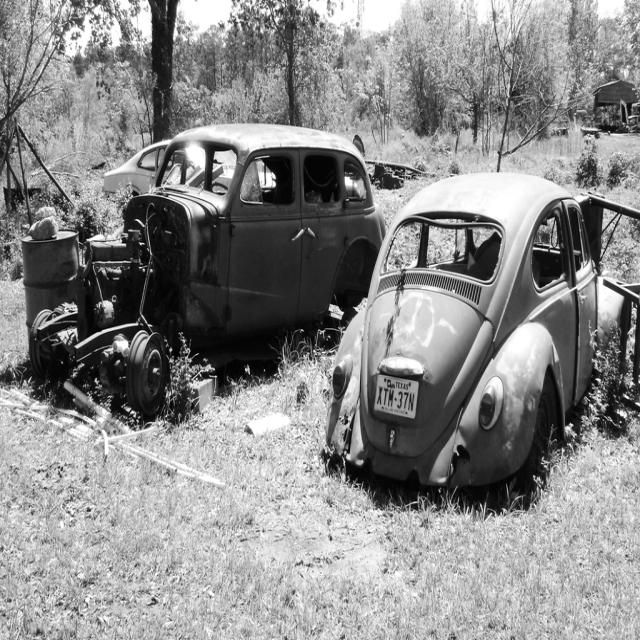car: (327, 174, 616, 512)
